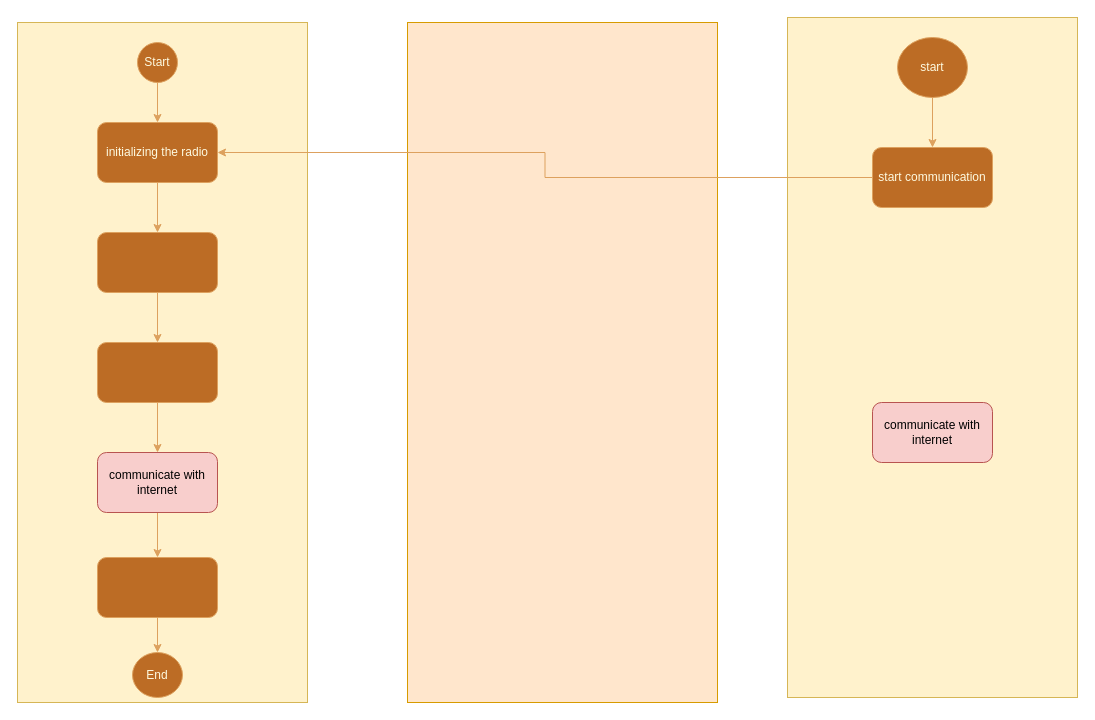
This 1095x720 diagram has some shape labels left out. Here are the shapes that lost their labels. From the top down, the box of each, then its label:
(96, 232, 218, 292): handshake with router
(96, 342, 218, 402): Get an ip address
(96, 556, 218, 618): Disconnect from the wifi
